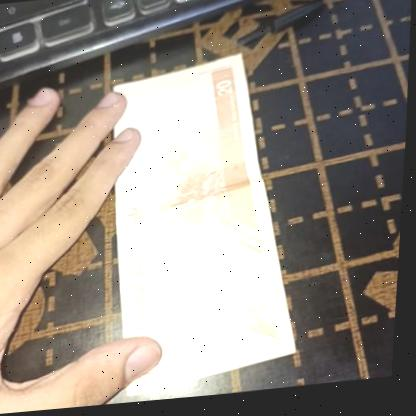twenty-back-vef: (103, 52, 315, 407)
